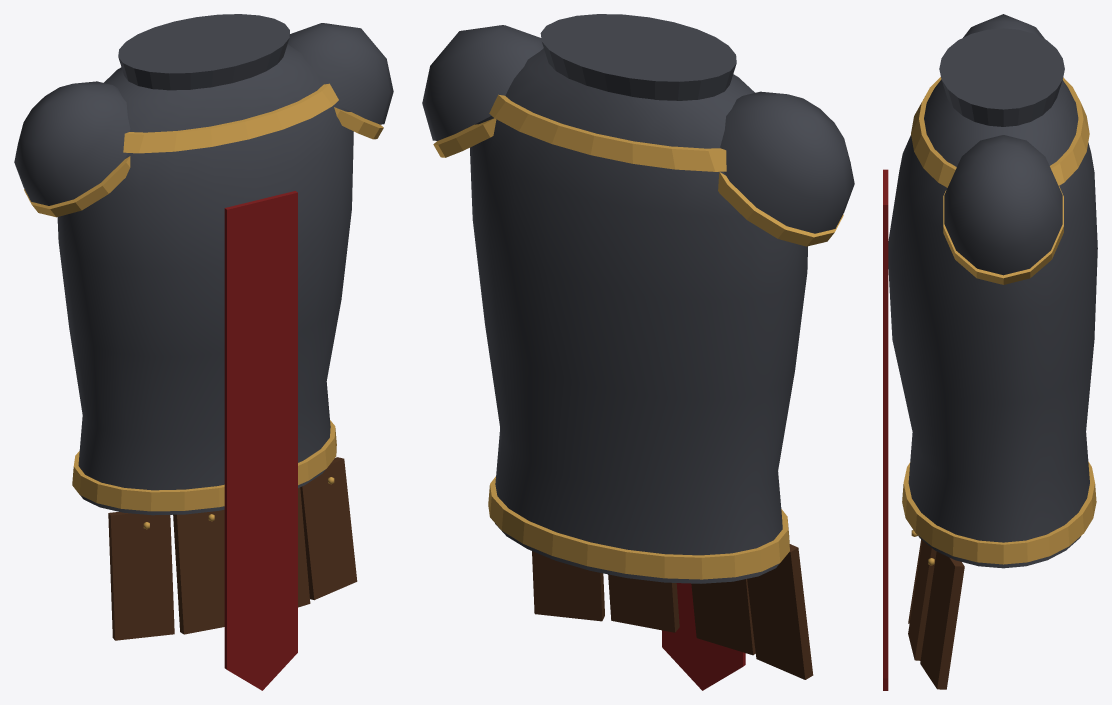
The model's file is body_plate_life.glb.
The picture shows the model from 3 angles, left to right: view 1: azimuth 30°, elevation 25°; view 2: azimuth 150°, elevation 25°; view 3: azimuth 270°, elevation 25°; orthographic projection. The views are drawn at different scales.
Parts seen in each view (by area): view 1: Body_plate_life_Darksteel, Body_plate_life_Cloth_red, Body_plate_life_Leather, Body_plate_life_Brass; view 2: Body_plate_life_Darksteel, Body_plate_life_Brass, Body_plate_life_Leather, Body_plate_life_Cloth_red; view 3: Body_plate_life_Darksteel, Body_plate_life_Brass, Body_plate_life_Leather, Body_plate_life_Cloth_red.
Boxes of the visible parts, bbox=[...] form: Body_plate_life_Darksteel: bbox=[14, 14, 393, 515]; Body_plate_life_Cloth_red: bbox=[224, 191, 297, 690]; Body_plate_life_Leather: bbox=[108, 457, 357, 640]; Body_plate_life_Brass: bbox=[24, 83, 383, 529]; Body_plate_life_Darksteel: bbox=[422, 14, 854, 583]; Body_plate_life_Brass: bbox=[433, 94, 843, 579]; Body_plate_life_Leather: bbox=[532, 544, 813, 679]; Body_plate_life_Cloth_red: bbox=[662, 583, 745, 690]; Body_plate_life_Darksteel: bbox=[888, 14, 1097, 568]; Body_plate_life_Brass: bbox=[902, 77, 1096, 565]; Body_plate_life_Leather: bbox=[908, 539, 964, 689]; Body_plate_life_Cloth_red: bbox=[883, 169, 888, 690].
Size of the model in its own units: 0.5162 by 0.815 by 0.255.
